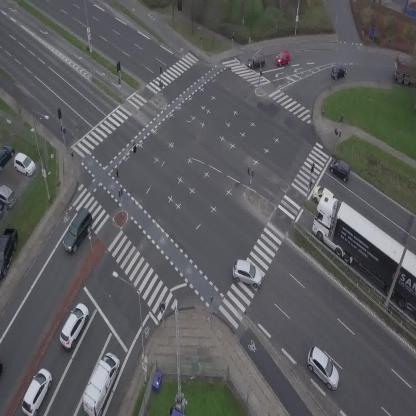car: (300, 344, 348, 392), (55, 206, 100, 256), (55, 301, 94, 351), (17, 366, 56, 416), (228, 257, 267, 291), (326, 156, 354, 182), (310, 182, 335, 203), (245, 52, 267, 69), (328, 63, 348, 81), (274, 50, 292, 66)
lorry: (77, 349, 125, 416), (395, 53, 416, 85)
